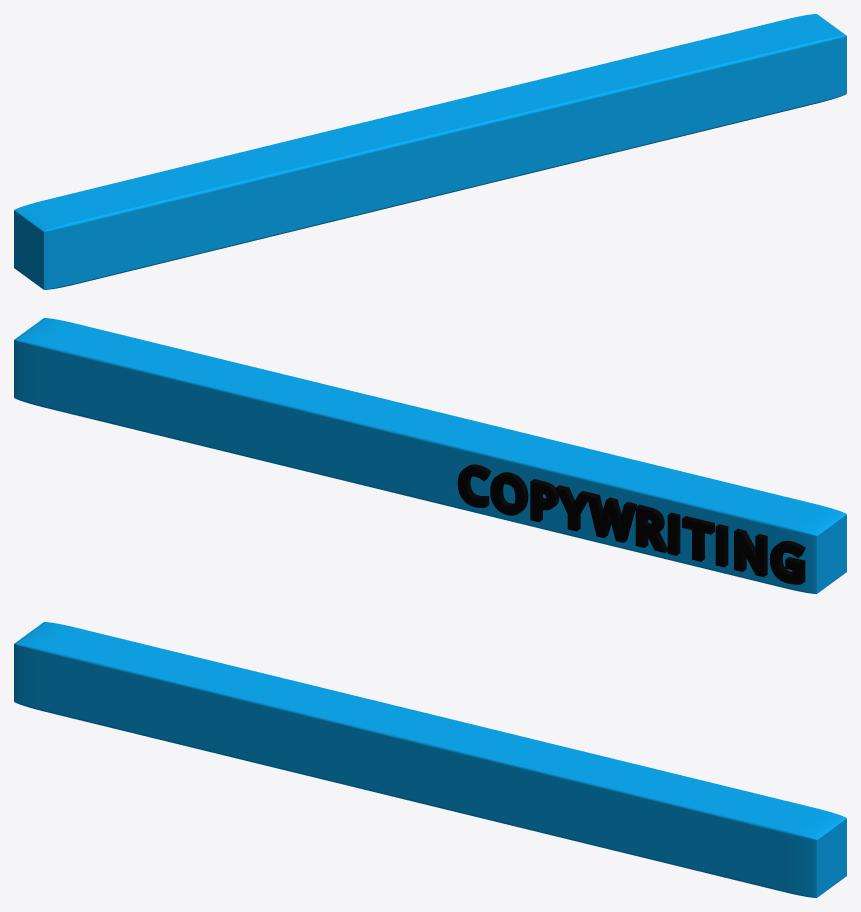
File: writing.glb
The picture shows the model from 3 angles, top to bottom: view 1: azimuth 30°, elevation 25°; view 2: azimuth 150°, elevation 25°; view 3: azimuth 330°, elevation 25°; orthographic projection.
Parts seen in each view (by area): view 1: Box; view 2: Box, 3D Text - W, 3D Text - N, 3D Text - G, 3D Text - R, 3D Text - O, 3D Text - I (×2), 3D Text - C, 3D Text - P, 3D Text - Y, 3D Text - T; view 3: Box.
Boxes of the visible parts, x1=… form: Box: x1=14, y1=14, x2=846, y2=289; Box: x1=14, y1=318, x2=846, y2=593; 3D Text - W: x1=587, y1=492, x2=636, y2=542; 3D Text - N: x1=734, y1=528, x2=767, y2=576; 3D Text - G: x1=769, y1=540, x2=805, y2=584; 3D Text - R: x1=635, y1=504, x2=667, y2=552; 3D Text - O: x1=490, y1=472, x2=528, y2=515; 3D Text - I (×2): x1=667, y1=512, x2=728, y2=567; 3D Text - C: x1=457, y1=464, x2=491, y2=507; 3D Text - P: x1=530, y1=479, x2=559, y2=522; 3D Text - Y: x1=555, y1=485, x2=590, y2=531; 3D Text - T: x1=682, y1=516, x2=714, y2=561; Box: x1=14, y1=622, x2=846, y2=897.
Bounding box in the file's own units: 1.45 × 0.1081 × 0.1119.
